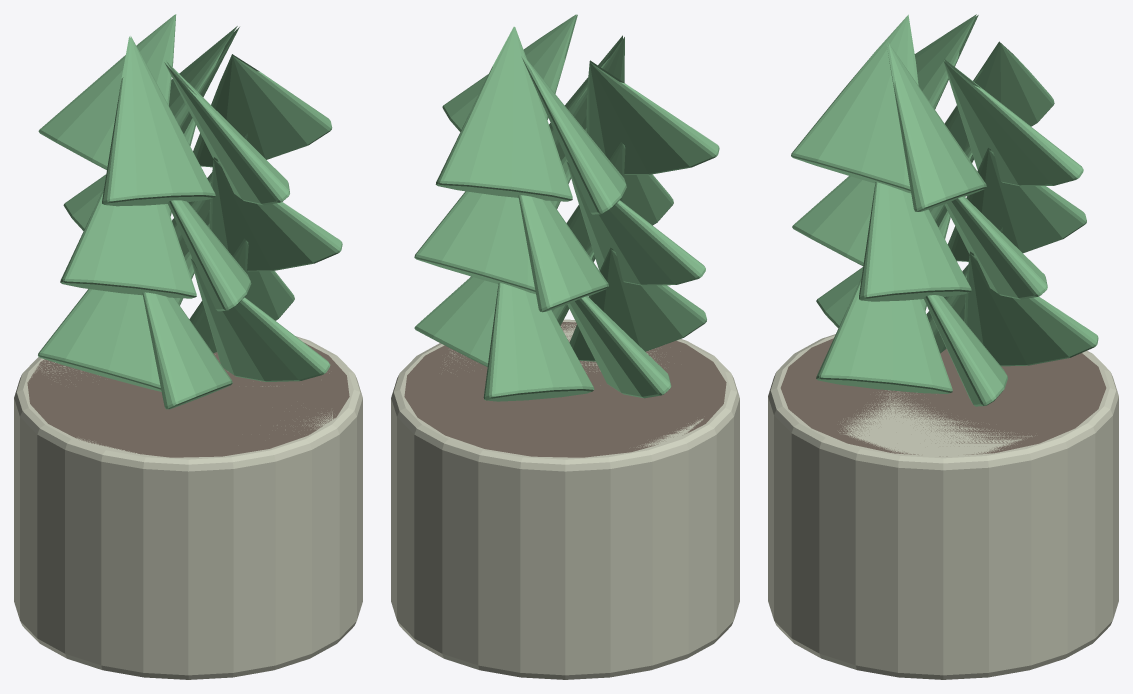
Rendered from modern_office_asset_library_board_29_iter_0.glb.
The picture shows the model from 3 angles, left to right: view 1: azimuth 30°, elevation 25°; view 2: azimuth 150°, elevation 25°; view 3: azimuth 270°, elevation 25°; orthographic projection.
Parts seen in each view (by area): view 1: Cylinder; view 2: Cylinder; view 3: Cylinder.
Part boxes in pixels (x1,y1,x2,y2): Cylinder: (14,14,362,679); Cylinder: (391,14,739,679); Cylinder: (768,14,1118,679).
Bounding box in the file's own units: 0.546 × 0.9875 × 0.546.
